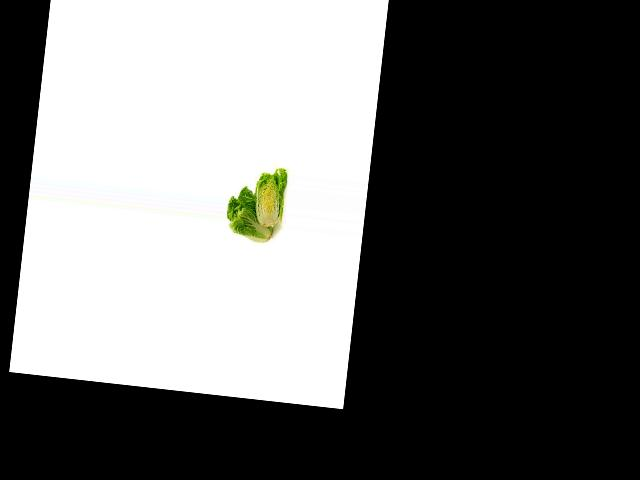lettuce: (221, 181, 280, 245)
